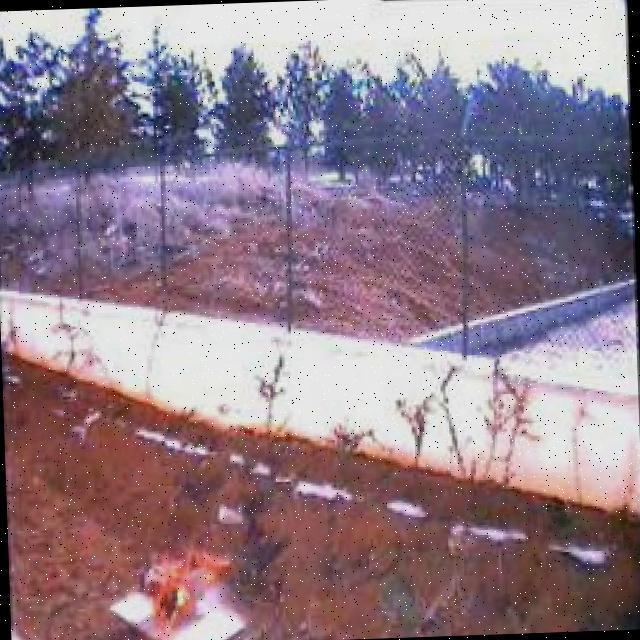Fire: (139, 535, 237, 640)
